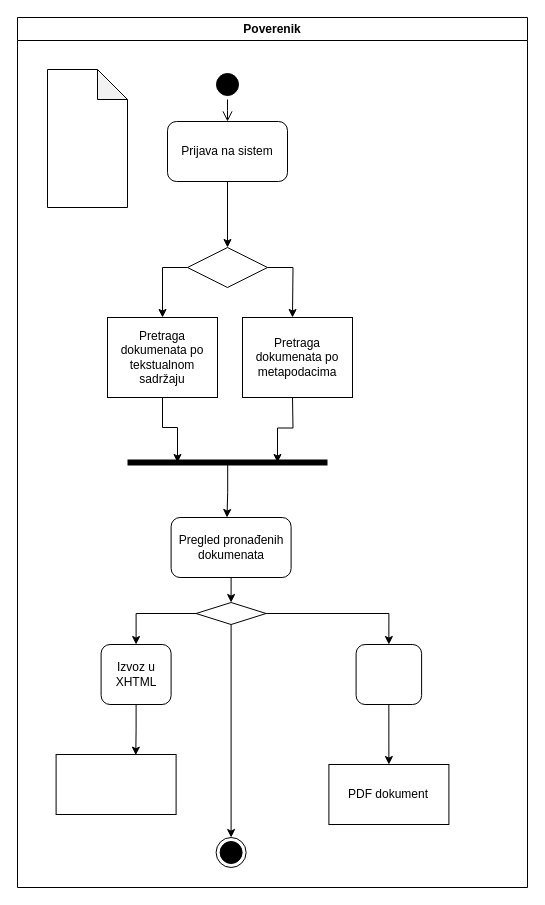
This 545x905 diagram has some shape labels left out. Each missing label, with the centre of its shape:
Izvoz u PDF: (388,674)
Pregled svih žalbi i rešenja: (87,138)
Pretraga: (227,267)
XHTML dokument: (115,784)
